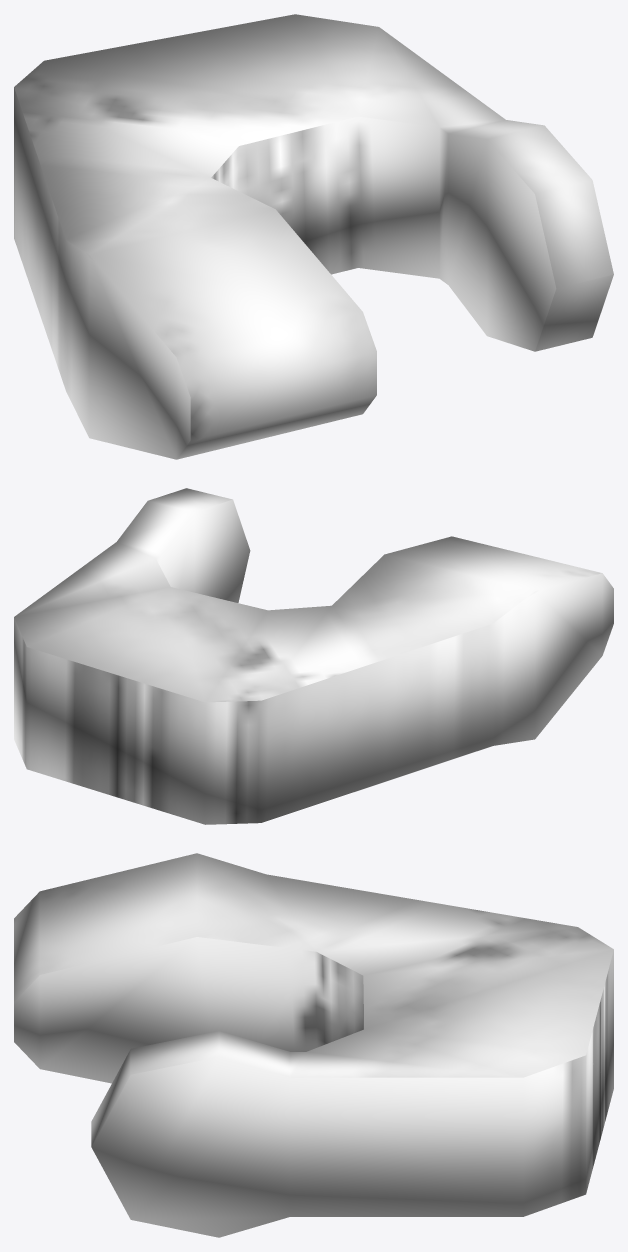
File: mtorso.dae
The picture shows the model from 3 angles, top to bottom: view 1: azimuth 30°, elevation 25°; view 2: azimuth 150°, elevation 25°; view 3: azimuth 270°, elevation 25°; orthographic projection. The views are drawn at different scales.
Parts seen in each view (by area): view 1: mtorso; view 2: mtorso; view 3: mtorso.
Boxes of the visible parts, x1,y1,x2,y2 form: mtorso: [14, 14, 613, 459]; mtorso: [14, 488, 613, 824]; mtorso: [14, 853, 613, 1237].
Bounding box in the file's own units: 0.0837 × 0.0337 × 0.1012.
Materials: 1 (1 with a texture image).
